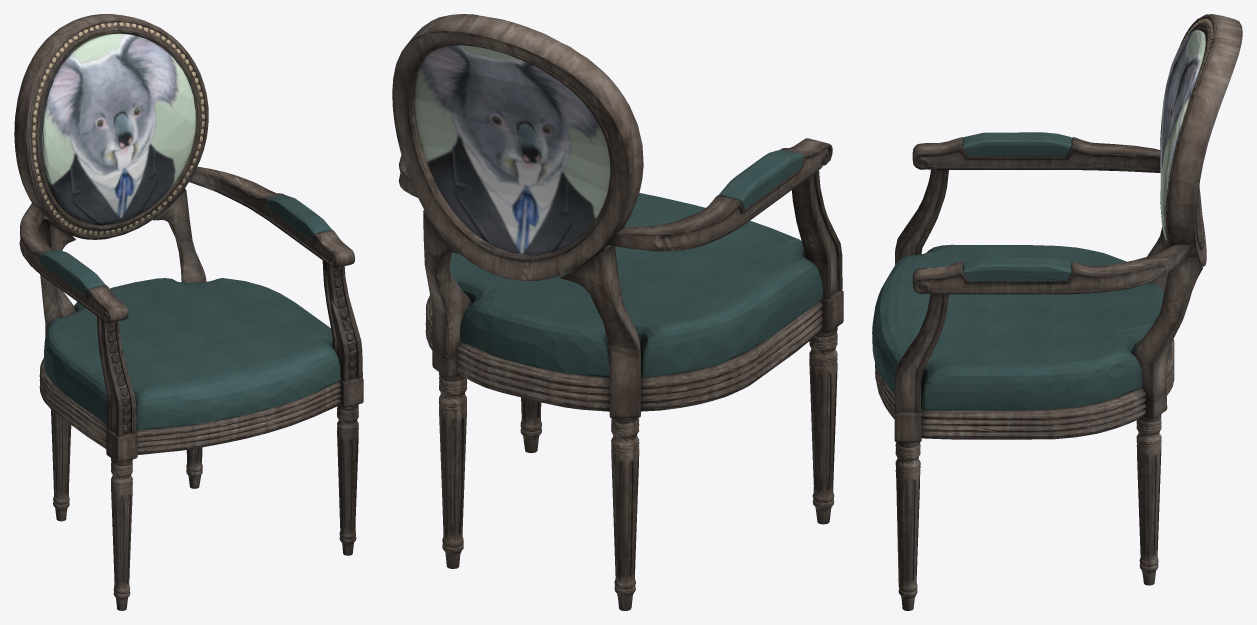
3 views of the same model, side by side, from view 1: azimuth 30°, elevation 25°; view 2: azimuth 150°, elevation 25°; view 3: azimuth 270°, elevation 25° (orthographic). The views are drawn at different scales.
Parts seen in each view (by area): view 1: solid_001_wire; view 2: solid_001_wire; view 3: solid_001_wire.
Boxes of the visible parts, <box> form: solid_001_wire: <box>14,14,363,610</box>; solid_001_wire: <box>392,14,843,610</box>; solid_001_wire: <box>872,14,1242,610</box>.
Bounding box in the file's own units: 0.5218 × 0.9308 × 0.6014.
1 material, 1 textured.
